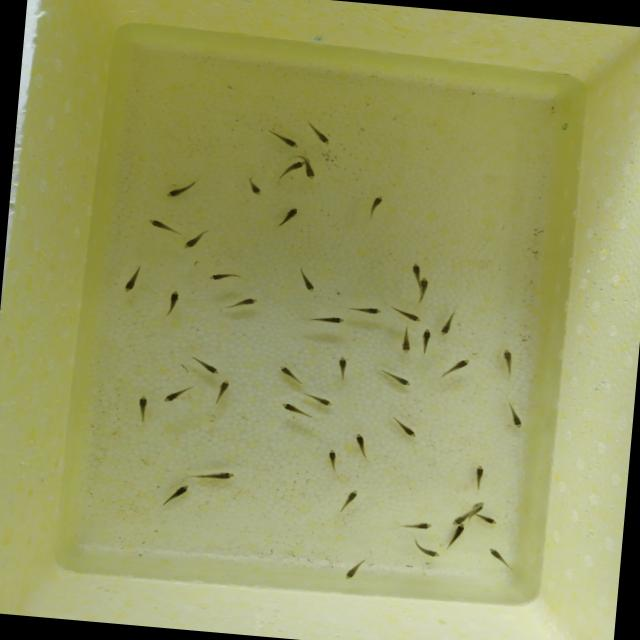fingerling: (358, 188, 394, 220), (220, 291, 268, 313), (336, 556, 366, 584), (463, 460, 492, 488), (319, 307, 344, 334), (402, 256, 426, 284), (203, 467, 241, 484), (169, 478, 193, 504), (274, 396, 302, 418), (443, 356, 477, 374), (496, 345, 520, 370), (162, 286, 186, 310), (414, 325, 436, 351), (298, 272, 320, 298), (388, 371, 418, 390), (198, 270, 245, 282), (146, 216, 174, 235), (132, 390, 152, 416), (339, 488, 366, 507), (507, 410, 528, 434), (394, 334, 415, 358), (212, 376, 232, 401), (322, 446, 342, 470), (412, 545, 446, 559), (158, 389, 186, 406), (406, 517, 435, 533), (315, 130, 337, 151), (122, 269, 139, 296), (445, 525, 471, 542), (284, 202, 304, 224), (484, 544, 508, 562), (298, 167, 322, 185), (166, 182, 187, 202), (274, 362, 298, 379), (180, 235, 204, 252), (197, 361, 224, 376), (246, 179, 264, 201), (399, 424, 422, 441), (334, 352, 349, 378), (352, 430, 368, 454), (395, 310, 425, 322), (438, 317, 453, 340), (361, 302, 382, 318), (310, 394, 335, 407), (476, 514, 501, 526), (417, 276, 432, 296), (467, 500, 488, 514), (281, 136, 302, 150), (286, 160, 308, 172), (451, 512, 466, 526)
